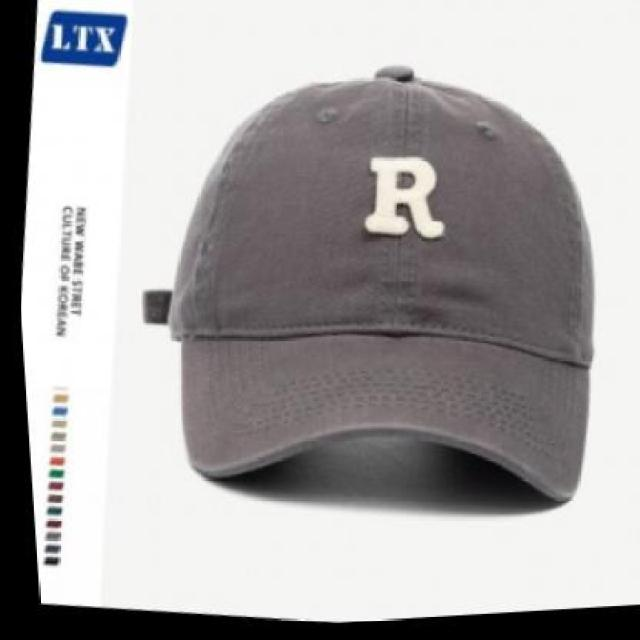hat: (104, 25, 636, 538)
